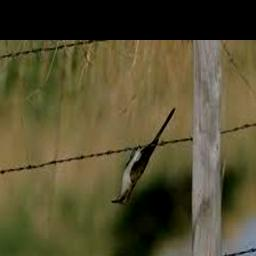Cuckoo: (110, 108, 175, 206)
